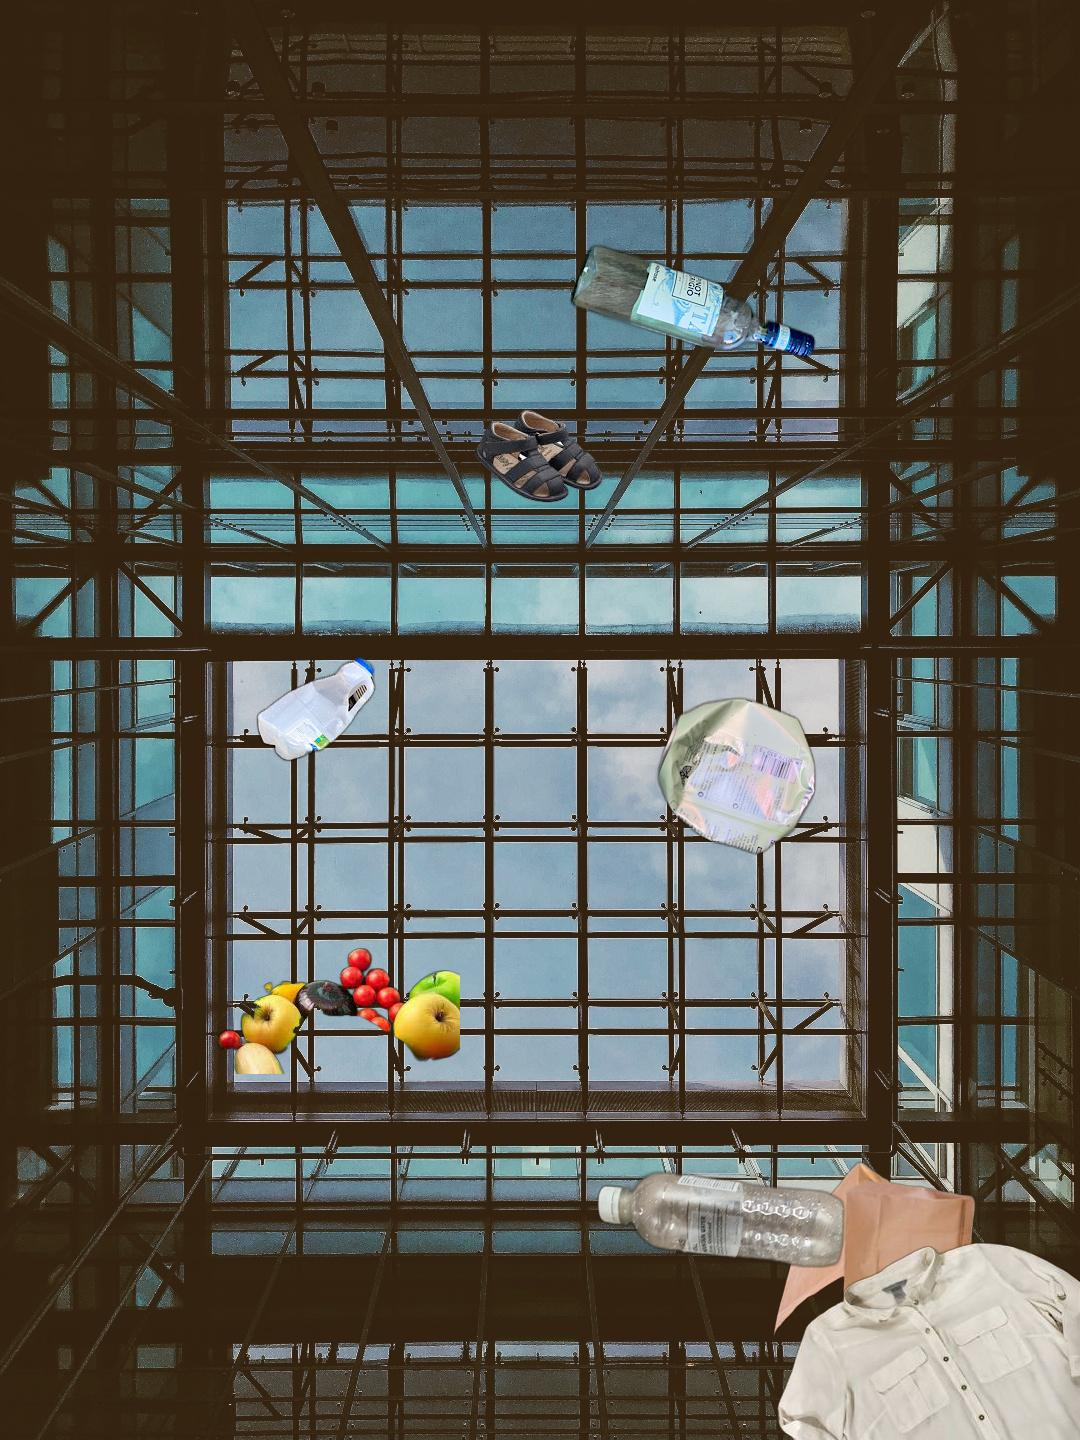biological: (199, 916, 459, 1074)
clothes: (773, 1239, 1080, 1440)
glass: (566, 240, 819, 363)
metal-cans: (549, 692, 820, 1192)
paper-bag: (771, 1160, 979, 1367)
plastic-bottles: (594, 1166, 849, 1272), (253, 651, 379, 766)
shoes: (472, 407, 605, 505)
